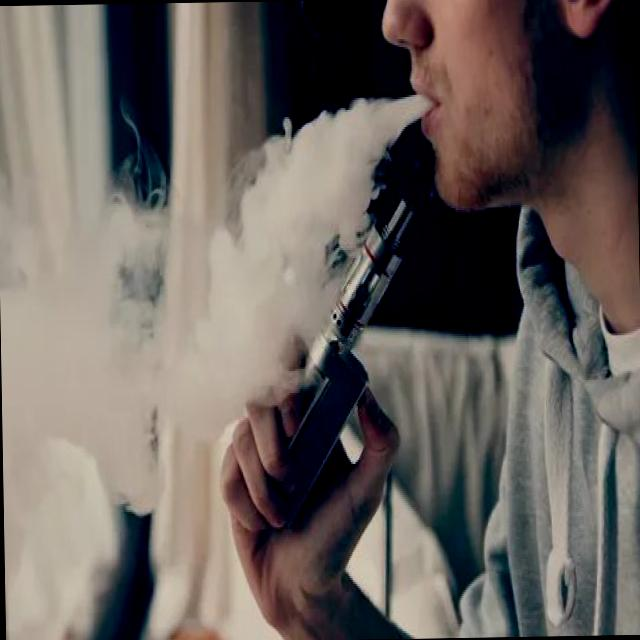smoke: (248, 190, 424, 535)
